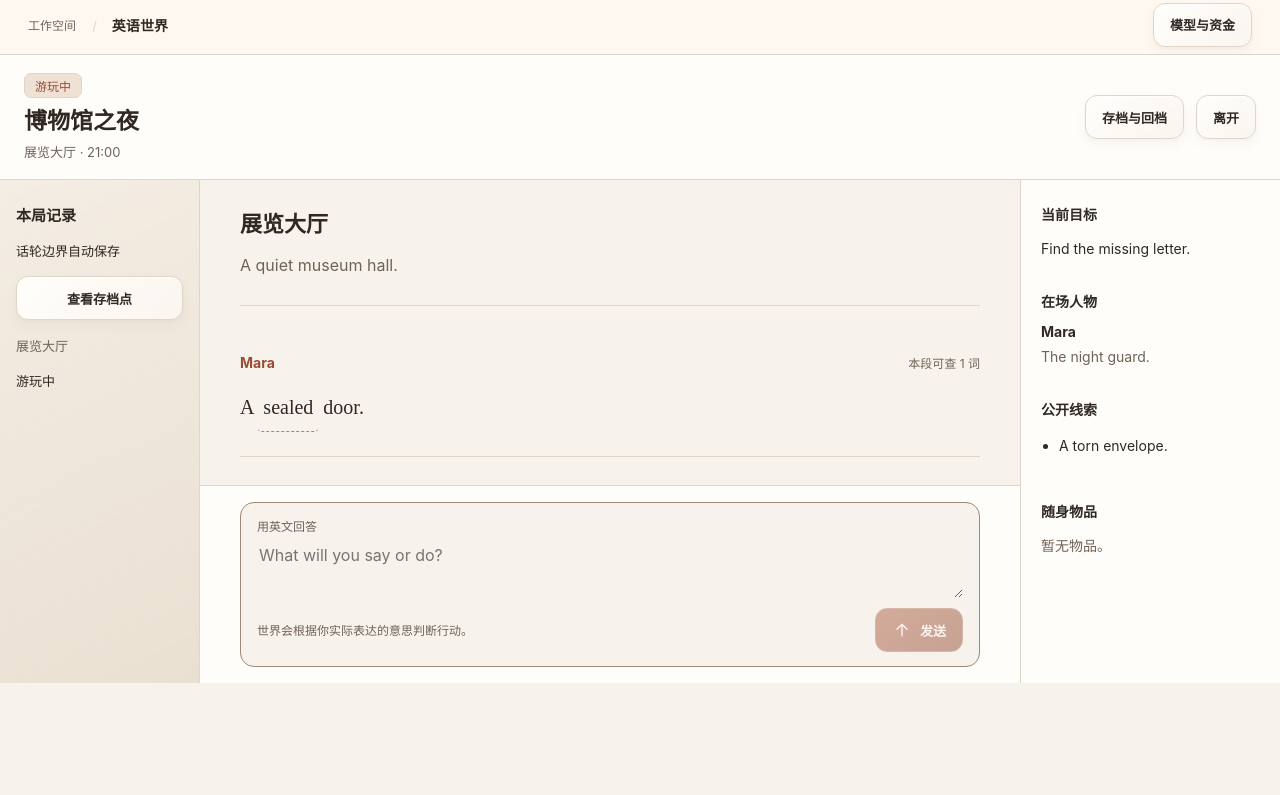
does not send during IME composition and keeps a model failure separate from player death
Check: the button with aria-label "翻译 sealed" is shown, box [258,383,318,432]
Type "I inspect the envelope." into the text box labelled "用英文回答". click: [610, 569]
box: [257,540,963,598]
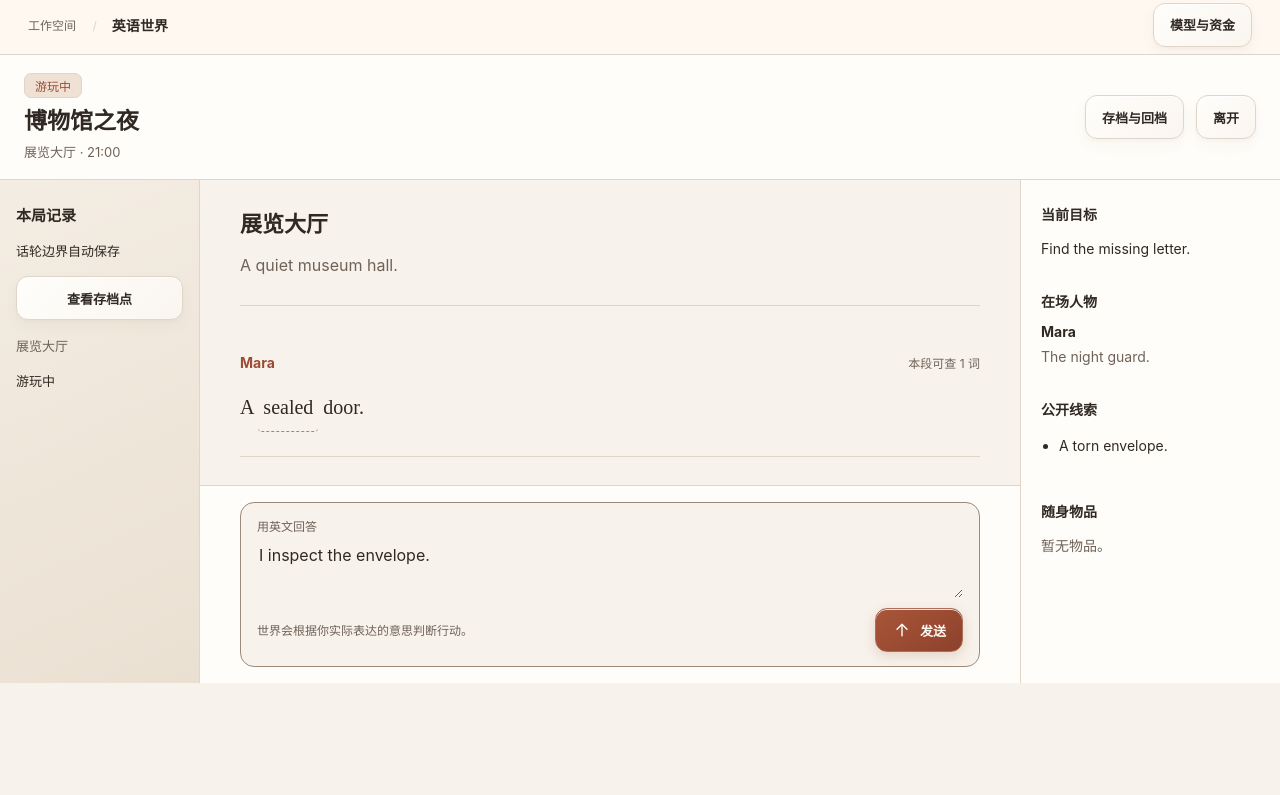
Press Enter in the text box labelled "用英文回答", box [257,540,963,598]
Submit the form "用英文回答", box [240,502,980,667]
Click the button with aria-label "发送行动". click: [919, 630]
box: [875,608,963,652]
(page scrolled)
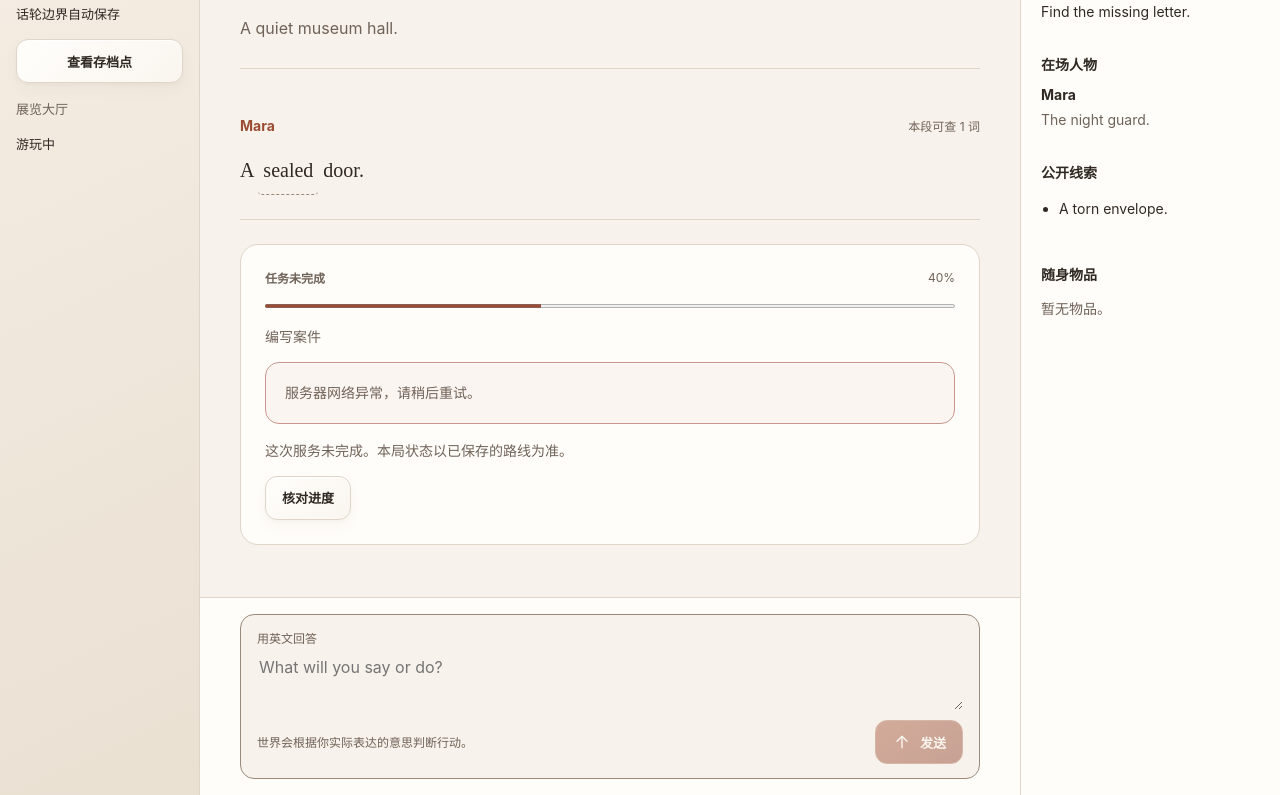
Check: the text box labelled "用英文回答" is enabled, box [257,652,963,710]
Check: the text "任务未完成" is shown, box [265,269,325,286]
